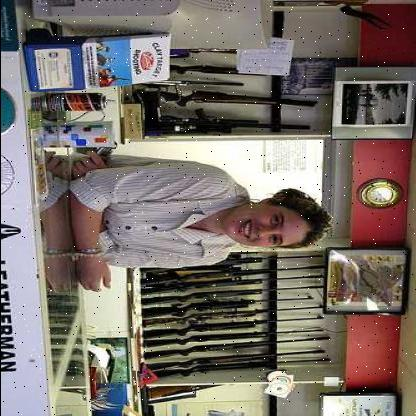rifle: (126, 79, 329, 114), (131, 108, 315, 142), (147, 357, 331, 387), (141, 315, 325, 344), (114, 265, 338, 285)
